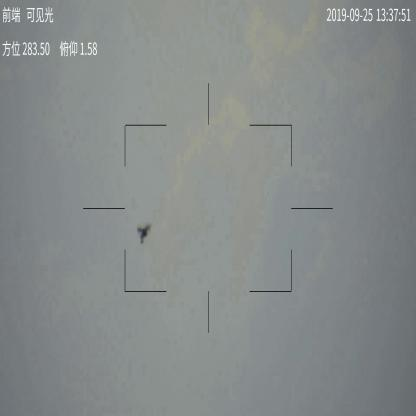uav: (135, 222, 154, 247)
